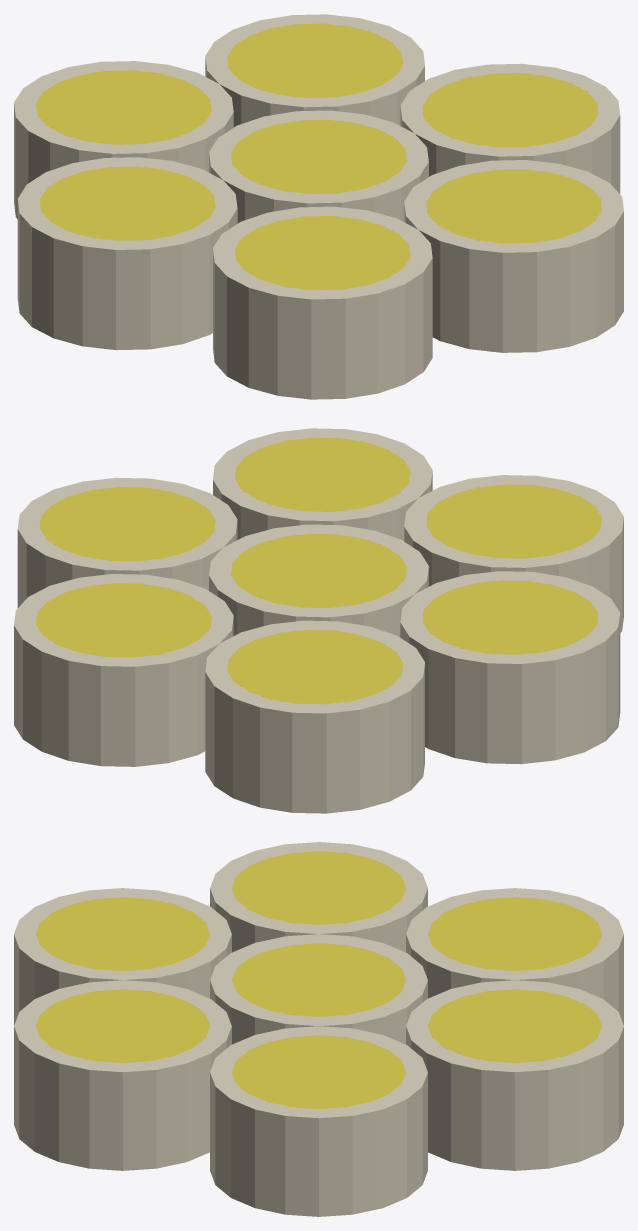
The picture shows the model from 3 angles, top to bottom: view 1: azimuth 30°, elevation 25°; view 2: azimuth 150°, elevation 25°; view 3: azimuth 270°, elevation 25°; orthographic projection.
Visible parts, largest first — view 1: Mesh_Mesh_head_geo.001_lambert2SG.001; view 2: Mesh_Mesh_head_geo.001_lambert2SG.001; view 3: Mesh_Mesh_head_geo.001_lambert2SG.001.
Boxes of the visible parts, x1=… form: Mesh_Mesh_head_geo.001_lambert2SG.001: x1=14, y1=14, x2=623, y2=399; Mesh_Mesh_head_geo.001_lambert2SG.001: x1=14, y1=428, x2=623, y2=813; Mesh_Mesh_head_geo.001_lambert2SG.001: x1=14, y1=842, x2=623, y2=1216.
Bounding box in the file's own units: 60 × 10 × 56.
